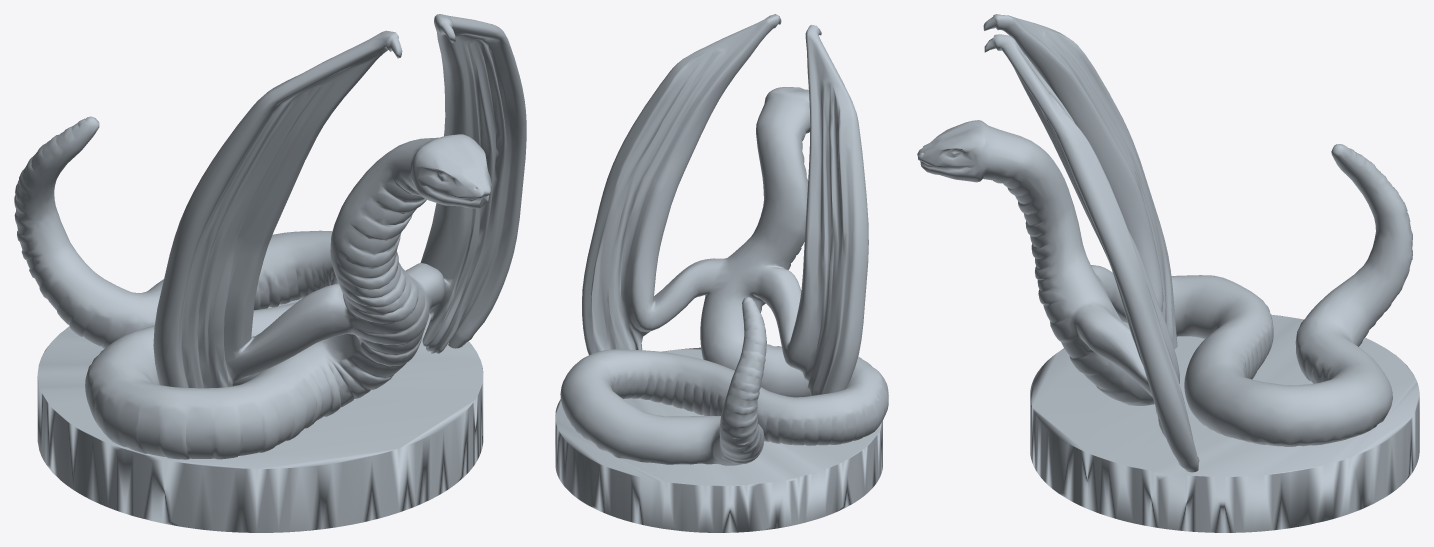
File: flying-snake.glb
The picture shows the model from 3 angles, left to right: view 1: azimuth 30°, elevation 25°; view 2: azimuth 150°, elevation 25°; view 3: azimuth 270°, elevation 25°; orthographic projection. The views are drawn at different scales.
Visible parts, largest first — view 1: Flying_Snake_Updated.001; view 2: Flying_Snake_Updated.001; view 3: Flying_Snake_Updated.001.
Boxes of the visible parts, box(x1,y1,x2,y2) form: Flying_Snake_Updated.001: box(14, 14, 526, 532); Flying_Snake_Updated.001: box(555, 14, 888, 532); Flying_Snake_Updated.001: box(917, 14, 1419, 532).
Size of the model in its own units: 17.41 by 20.34 by 21.11.
1 material, 1 textured.
